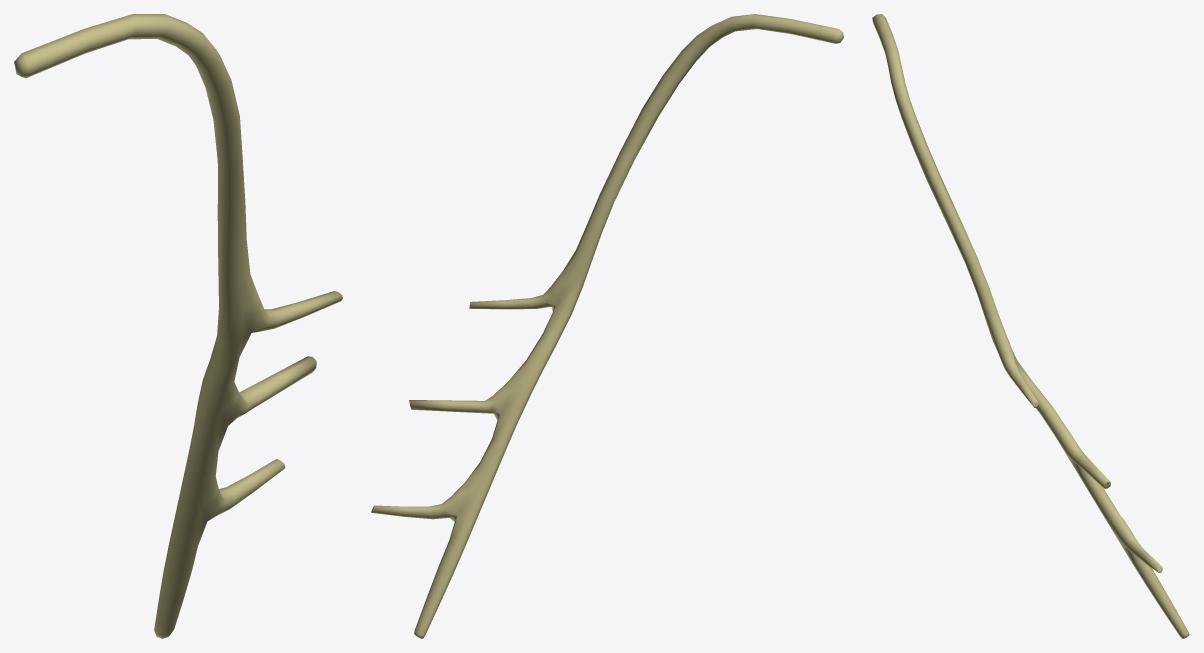
Rendered from Nervio_Accesori_L.FBX.
The picture shows the model from 3 angles, left to right: view 1: azimuth 30°, elevation 25°; view 2: azimuth 150°, elevation 25°; view 3: azimuth 270°, elevation 25°; orthographic projection. The views are drawn at different scales.
Parts seen in each view (by area): view 1: Nerves_R8; view 2: Nerves_R8; view 3: Nerves_R8.
Part boxes in pixels (box(x1,y1,x2,y2)): Nerves_R8: box(14, 14, 342, 638); Nerves_R8: box(371, 14, 843, 638); Nerves_R8: box(872, 14, 1189, 638).
Size of the model in its own units: 0.2145 by 0.3531 by 0.1983.
